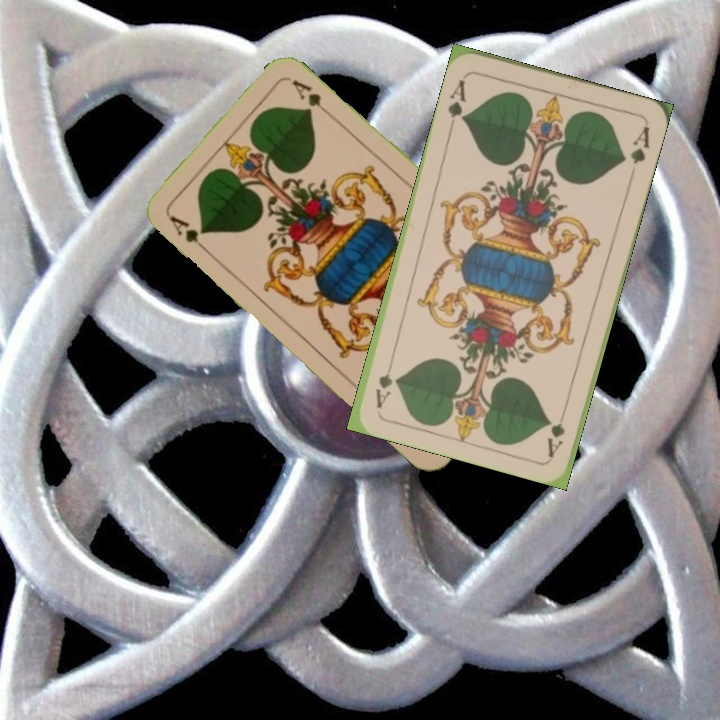GA: (165, 211, 213, 256), (443, 72, 470, 130), (543, 401, 570, 459)
